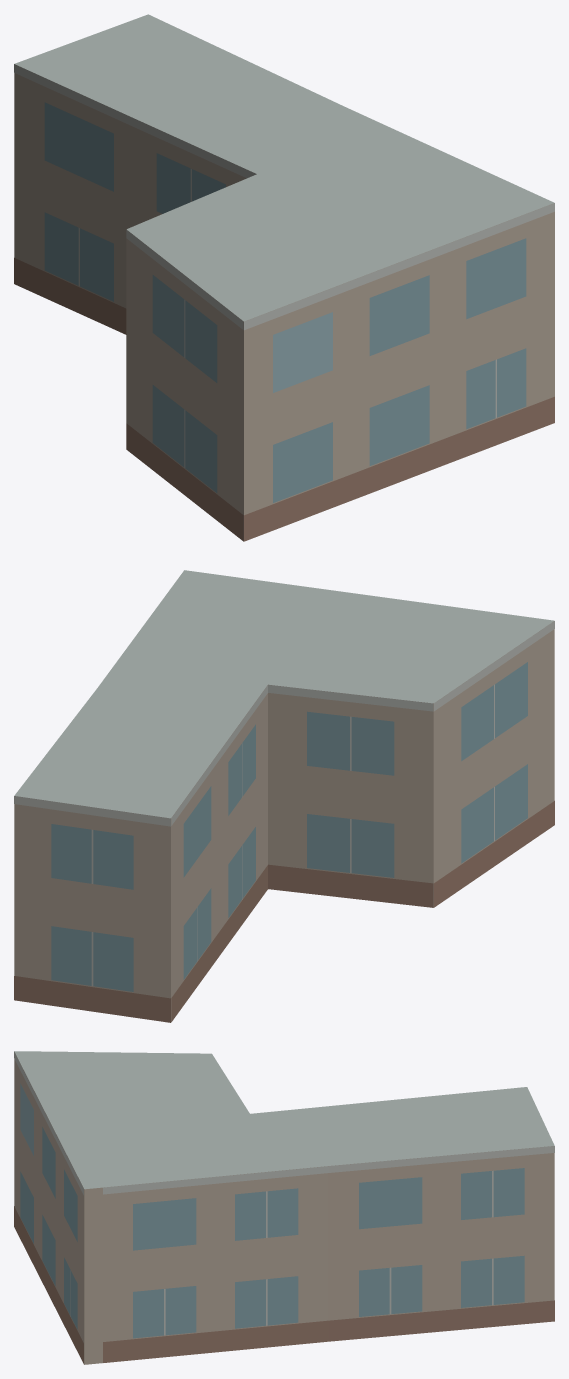
Rendered from survey-upis-32567386.glb.
The picture shows the model from 3 angles, top to bottom: view 1: azimuth 30°, elevation 25°; view 2: azimuth 150°, elevation 25°; view 3: azimuth 270°, elevation 25°; orthographic projection. The views are drawn at different scales.
Parts seen in each view (by area): view 1: survey-upis-32567386.tmp; view 2: survey-upis-32567386.tmp; view 3: survey-upis-32567386.tmp.
Part boxes in pixels (box(x1,y1,x2,y2)): survey-upis-32567386.tmp: box(14, 14, 554, 541); survey-upis-32567386.tmp: box(14, 570, 554, 1022); survey-upis-32567386.tmp: box(14, 1051, 554, 1364).
Bounding box in the file's own units: 10.3 × 6.1 × 17.04.
